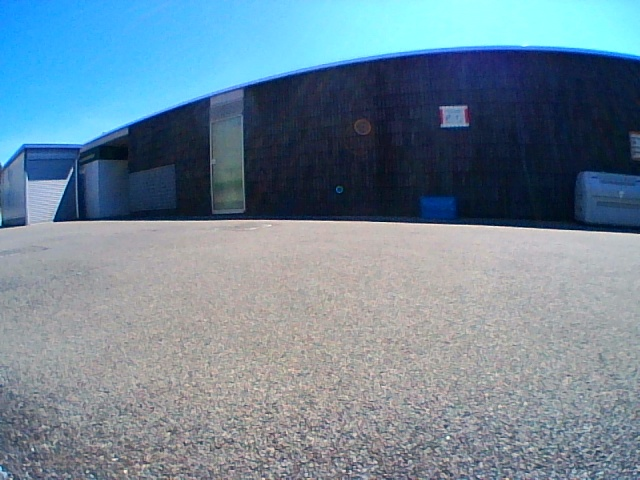blue_box: (421, 197, 452, 218)
